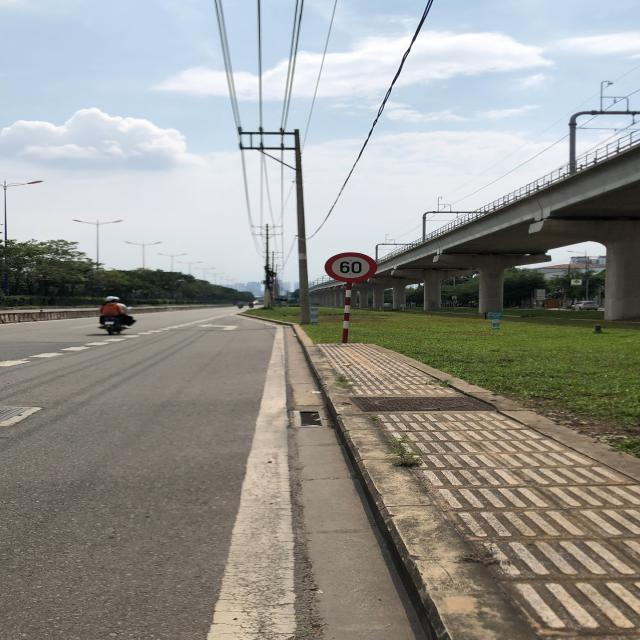Bien bao toc do toi da cho phep: (324, 251, 381, 285)
